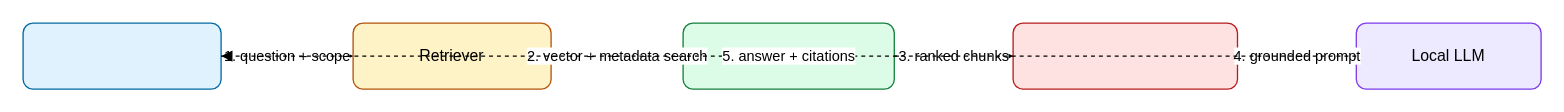
This 1564x112 diagram has some shape labels left out. The centre of each missing label's shape, as x and y in pixels:
AI Tutor UI: the point at 121,55
Grounding Validator: the point at 1125,55
